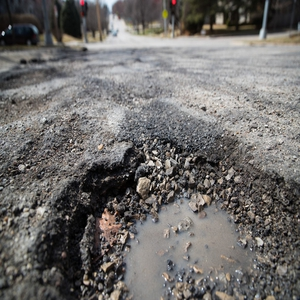pothole: (49, 141, 289, 300)
